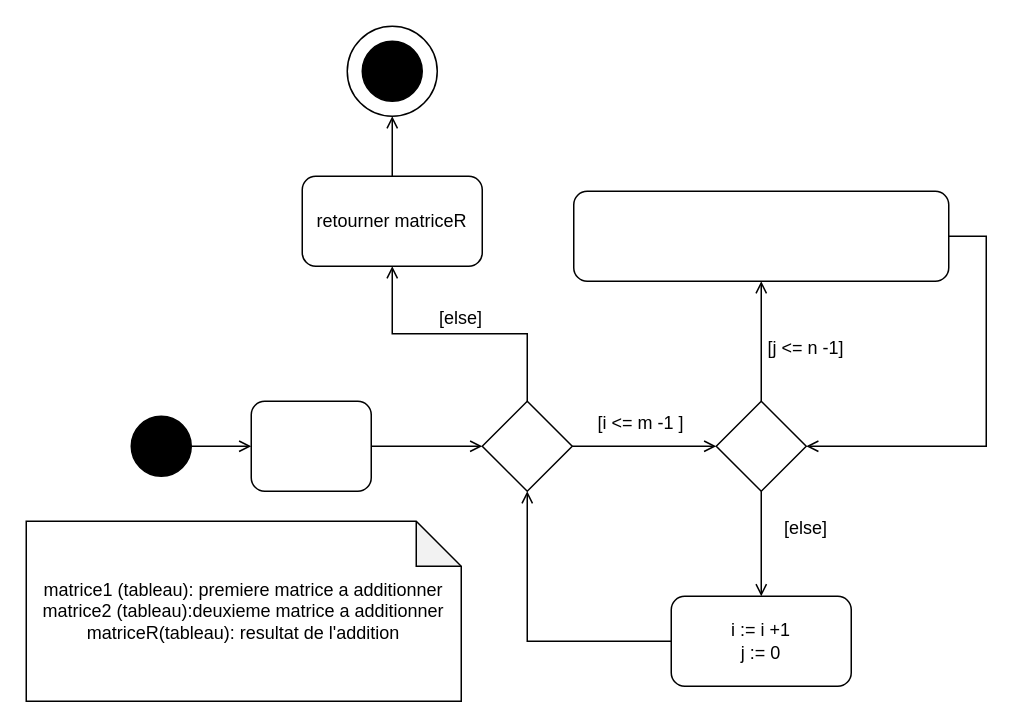
Image size: 1025x728. Some labels were removed from this diagram. Each missing label, with the centre of its shape:
"i := 0 j := 0" goes at point 310,445.
"matriceR [i][j] := matrice1[i][j] + matrice2[i][j] j := j +1" goes at point 760,235.
